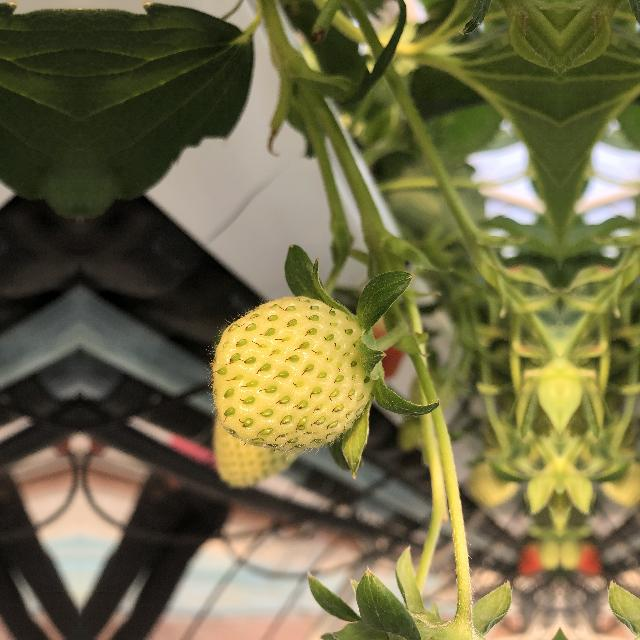Health_25: (204, 284, 380, 458)
